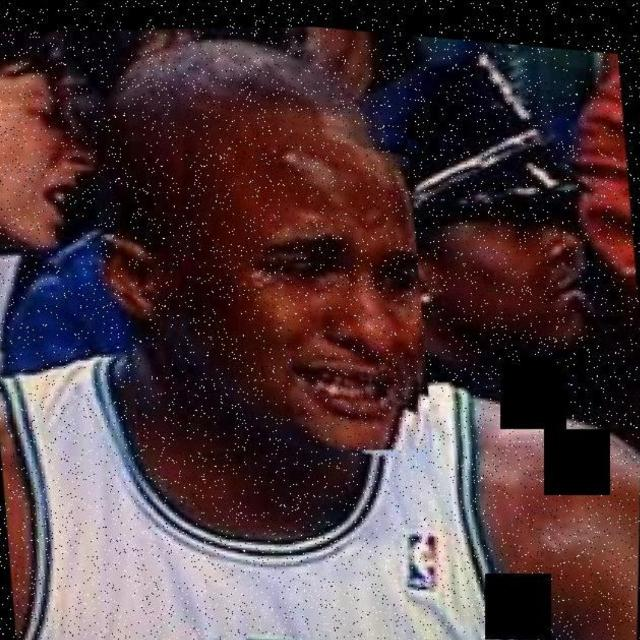Sad: (97, 110, 496, 460)
